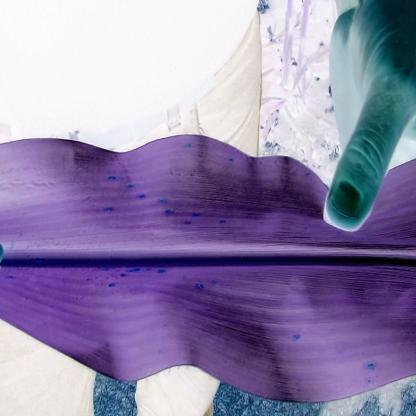corn rust leaf: (6, 133, 326, 406)
